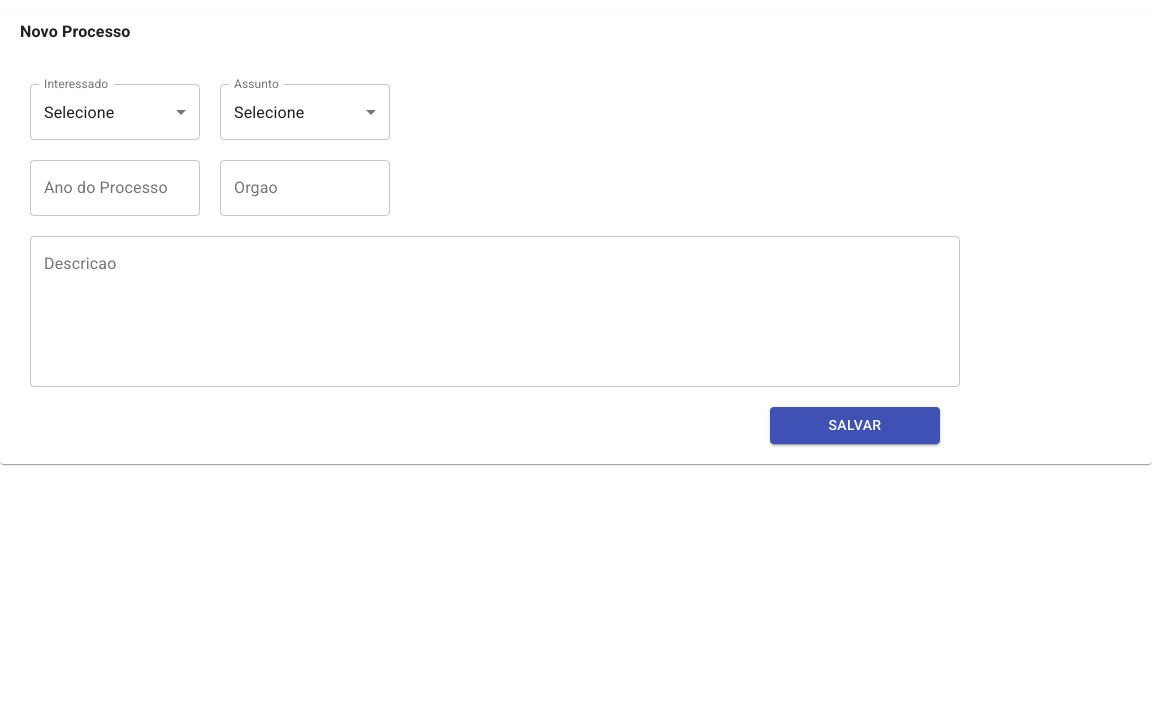
Test case: FormProcesso Component › Deve testar a validacao do Orgao
The image size is (1152, 720).
Click the button "Salvar". click: (855, 425)
box: [770,407,940,444]
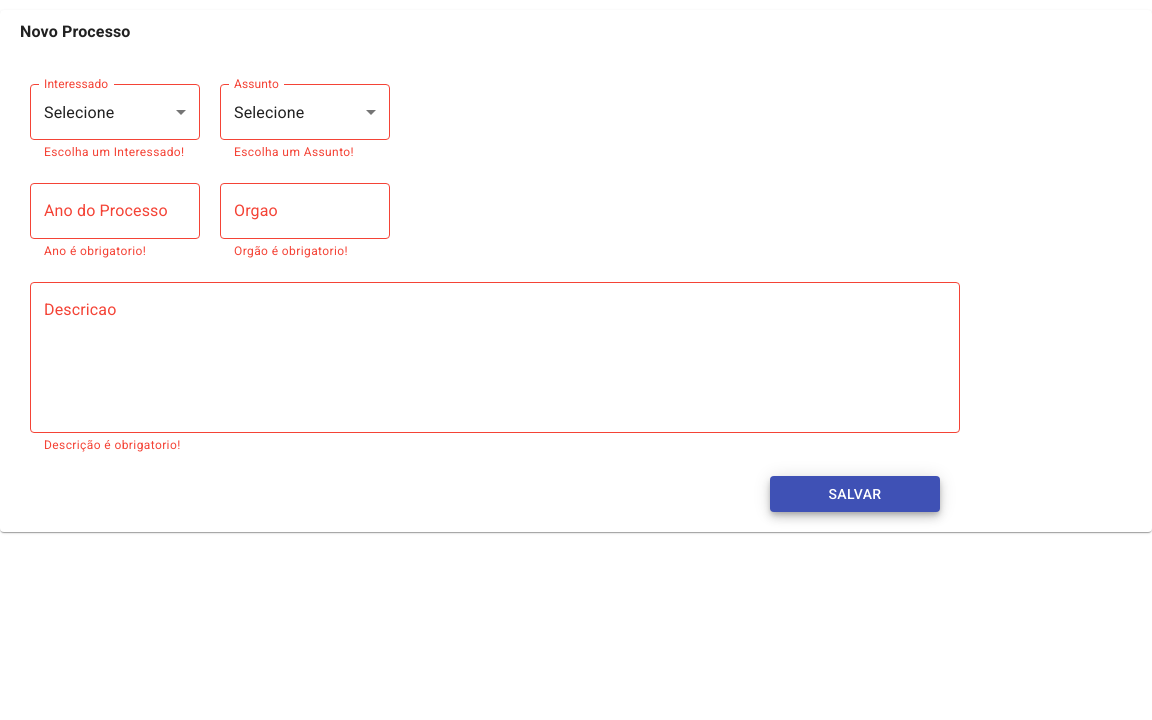
Result: the text "Orgão é obrigatorio!" is shown at [234,244,348,258]
Type "SOFTs" into the field labelled "Orgao". click: (305, 211)
box: [220,183,390,239]
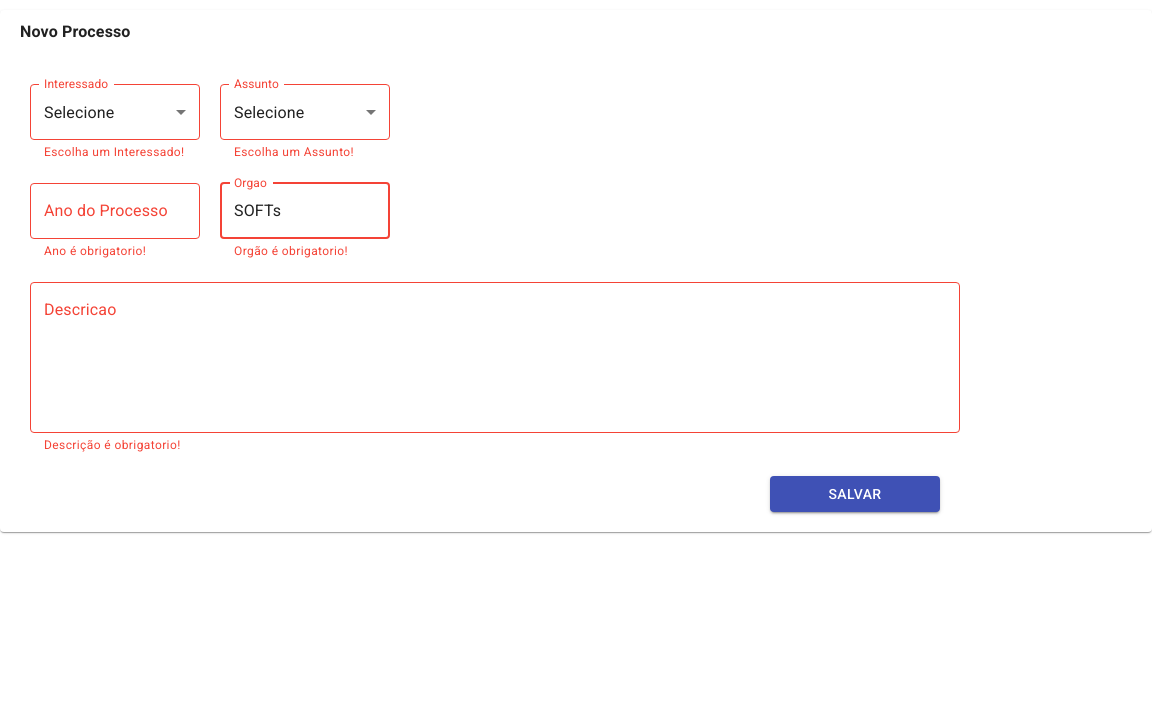
Click the button "Salvar". click: (855, 494)
box: [770,476,940,512]
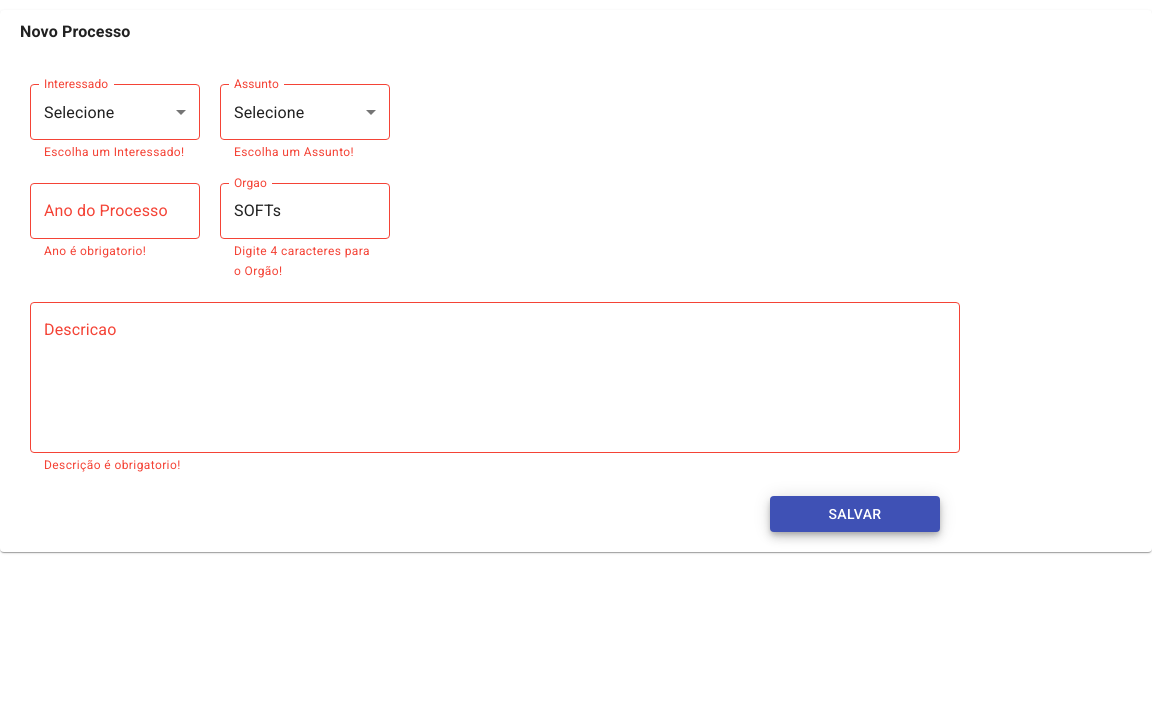
Result: the text "Digite 4 caracteres para o Orgão!" is shown at [234,242,376,282]
